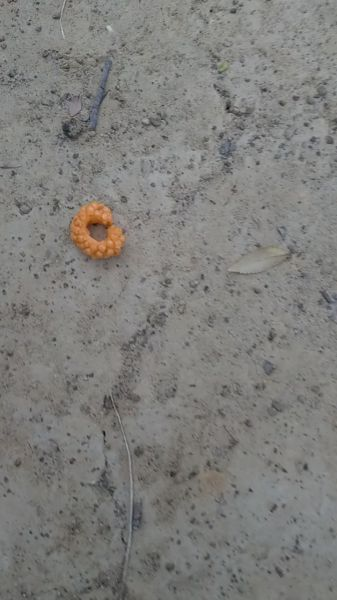eggs: (70, 199, 128, 259)
